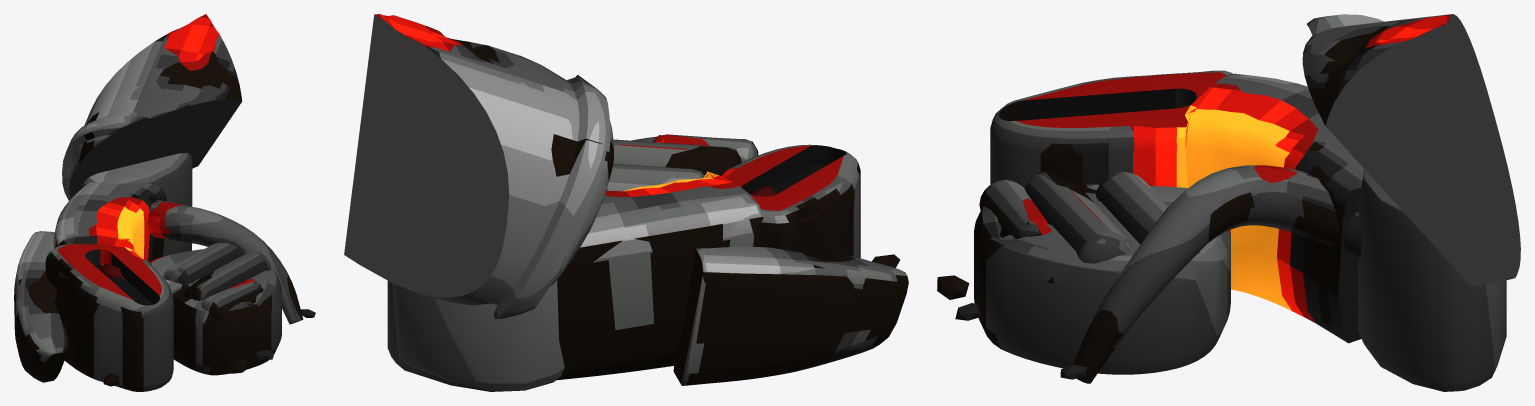
Rendered from mortar_mount_wreck.glb.
3 renders of one model, left to right at view 1: azimuth 30°, elevation 25°; view 2: azimuth 150°, elevation 25°; view 3: azimuth 270°, elevation 25°, orthographic. The views are drawn at different scales.
Visible parts, largest first — view 1: mortar_mount_wreck; view 2: mortar_mount_wreck; view 3: mortar_mount_wreck.
Boxes of the visible parts, bbox=[...] form: mortar_mount_wreck: bbox=[14, 14, 315, 391]; mortar_mount_wreck: bbox=[344, 14, 908, 391]; mortar_mount_wreck: bbox=[937, 14, 1520, 391].
Size of the model in its own units: 23.39 by 19.01 by 26.01.
